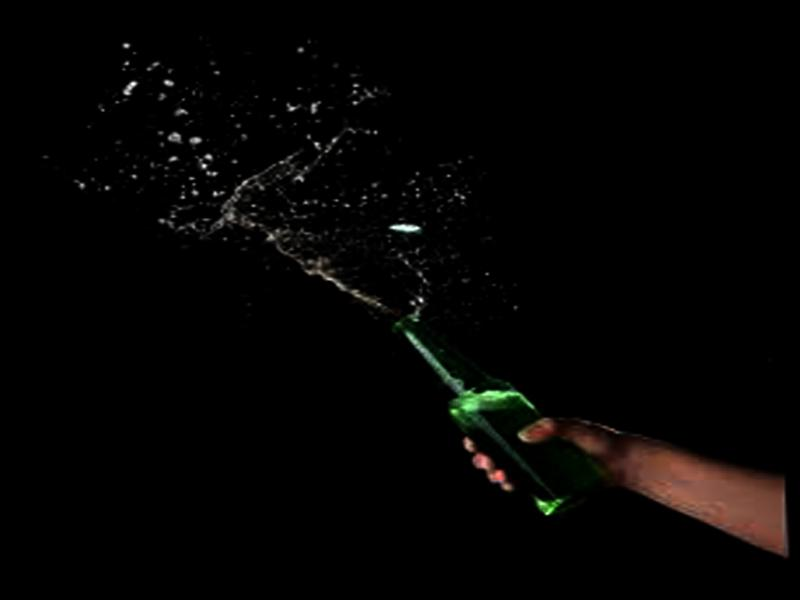Beer: (395, 314, 611, 521)
